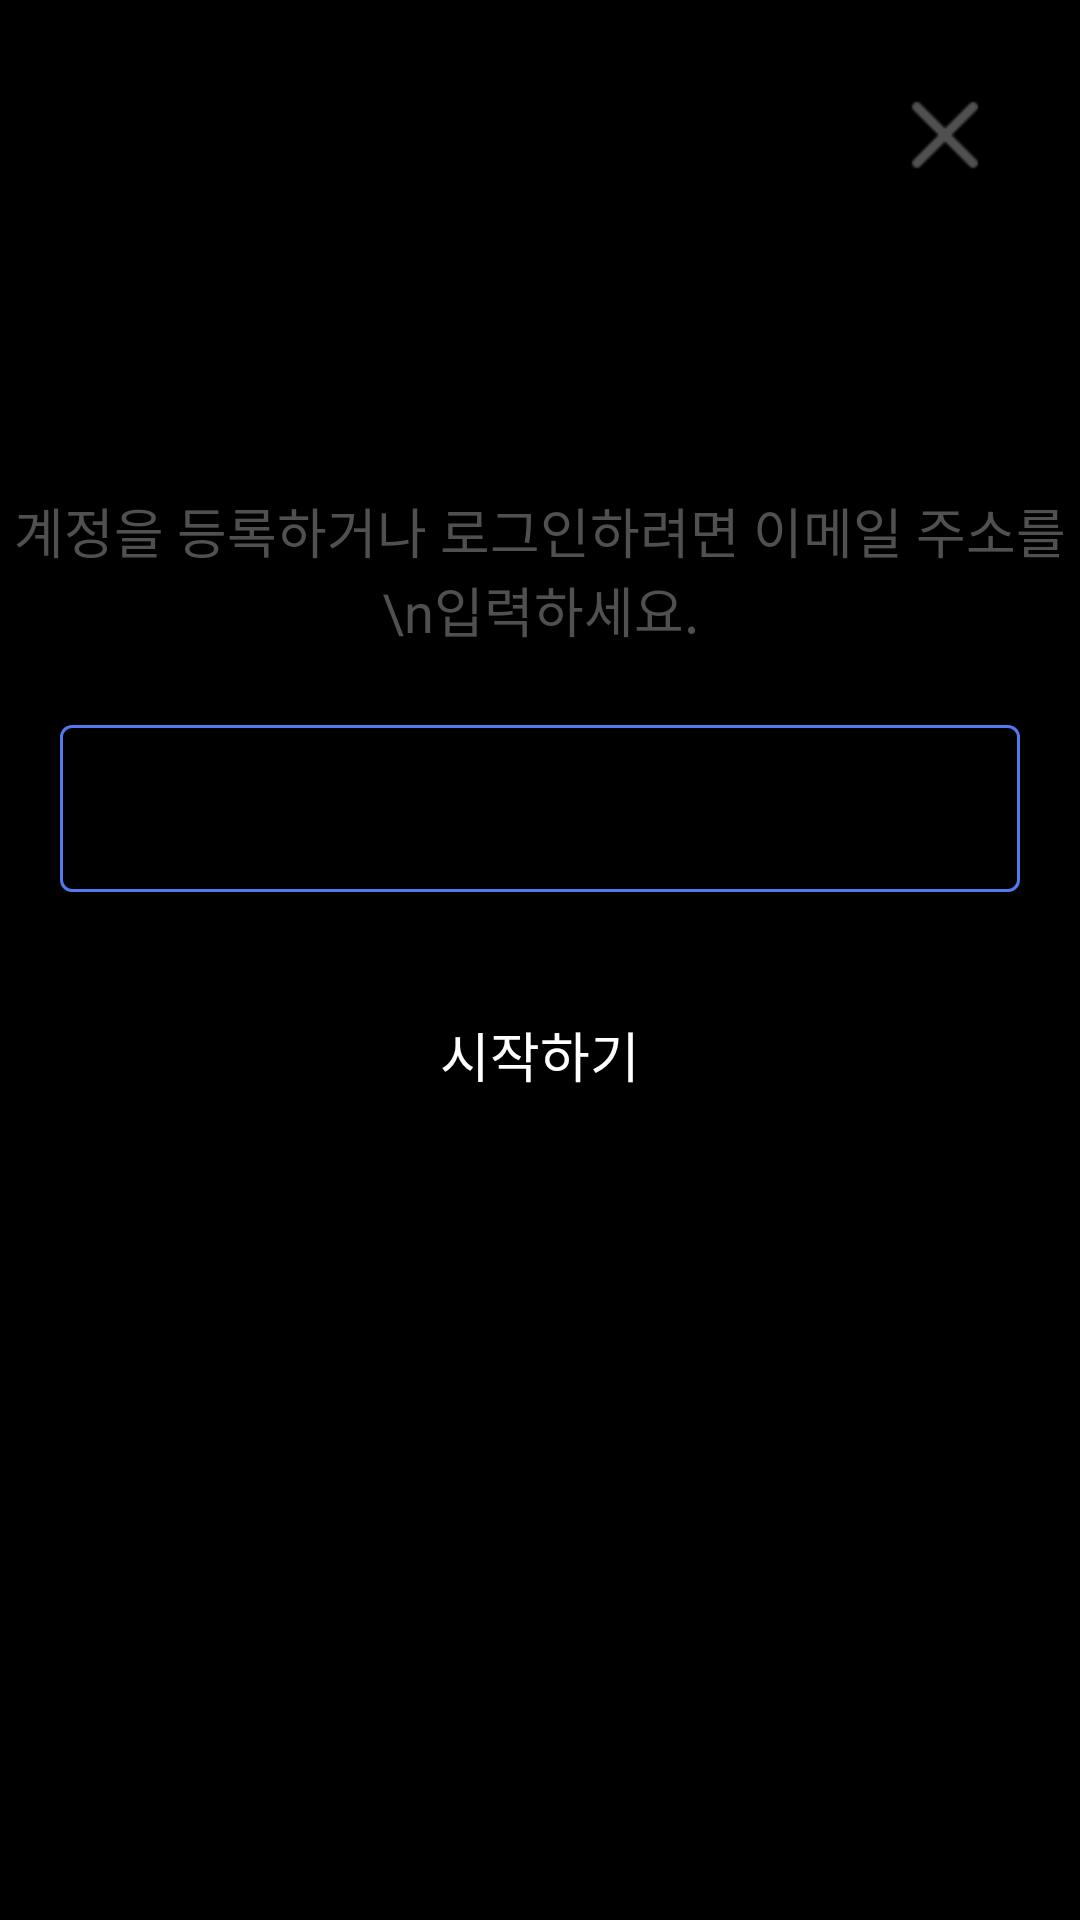

Point at icon controls on the screen. Image size 1080 x 1920, points as point (x, y).
cancel: point (945, 135)
